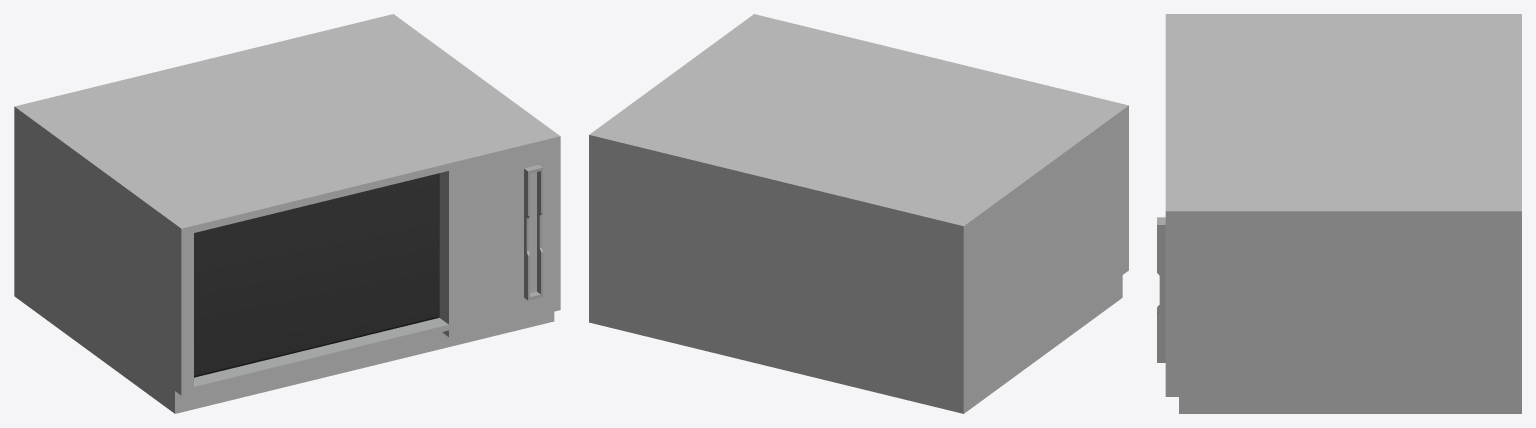
3 renders of one model, left to right at view 1: azimuth 30°, elevation 25°; view 2: azimuth 150°, elevation 25°; view 3: azimuth 270°, elevation 25°, orthographic. The views are drawn at different scales.
Parts seen in each view (by area): view 1: TV; view 2: TV; view 3: TV.
Boxes of the visible parts, x1,y1,x2,y2 form: TV: (14, 14, 560, 413); TV: (589, 14, 1128, 413); TV: (1157, 14, 1521, 413).
Size of the model in its own units: 4.07 by 1.95 by 3.18.
Materials: 3 (3 with a texture image).
